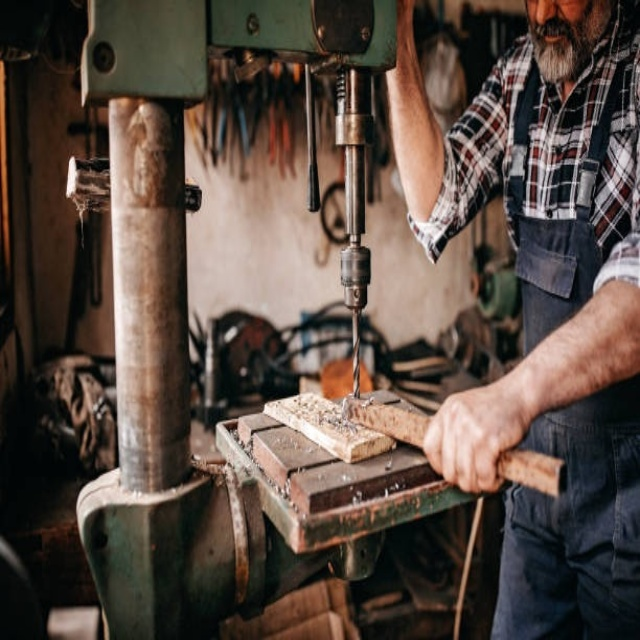Sin_guantes: (419, 384, 518, 497)
Sin_mascara: (528, 8, 576, 64)
